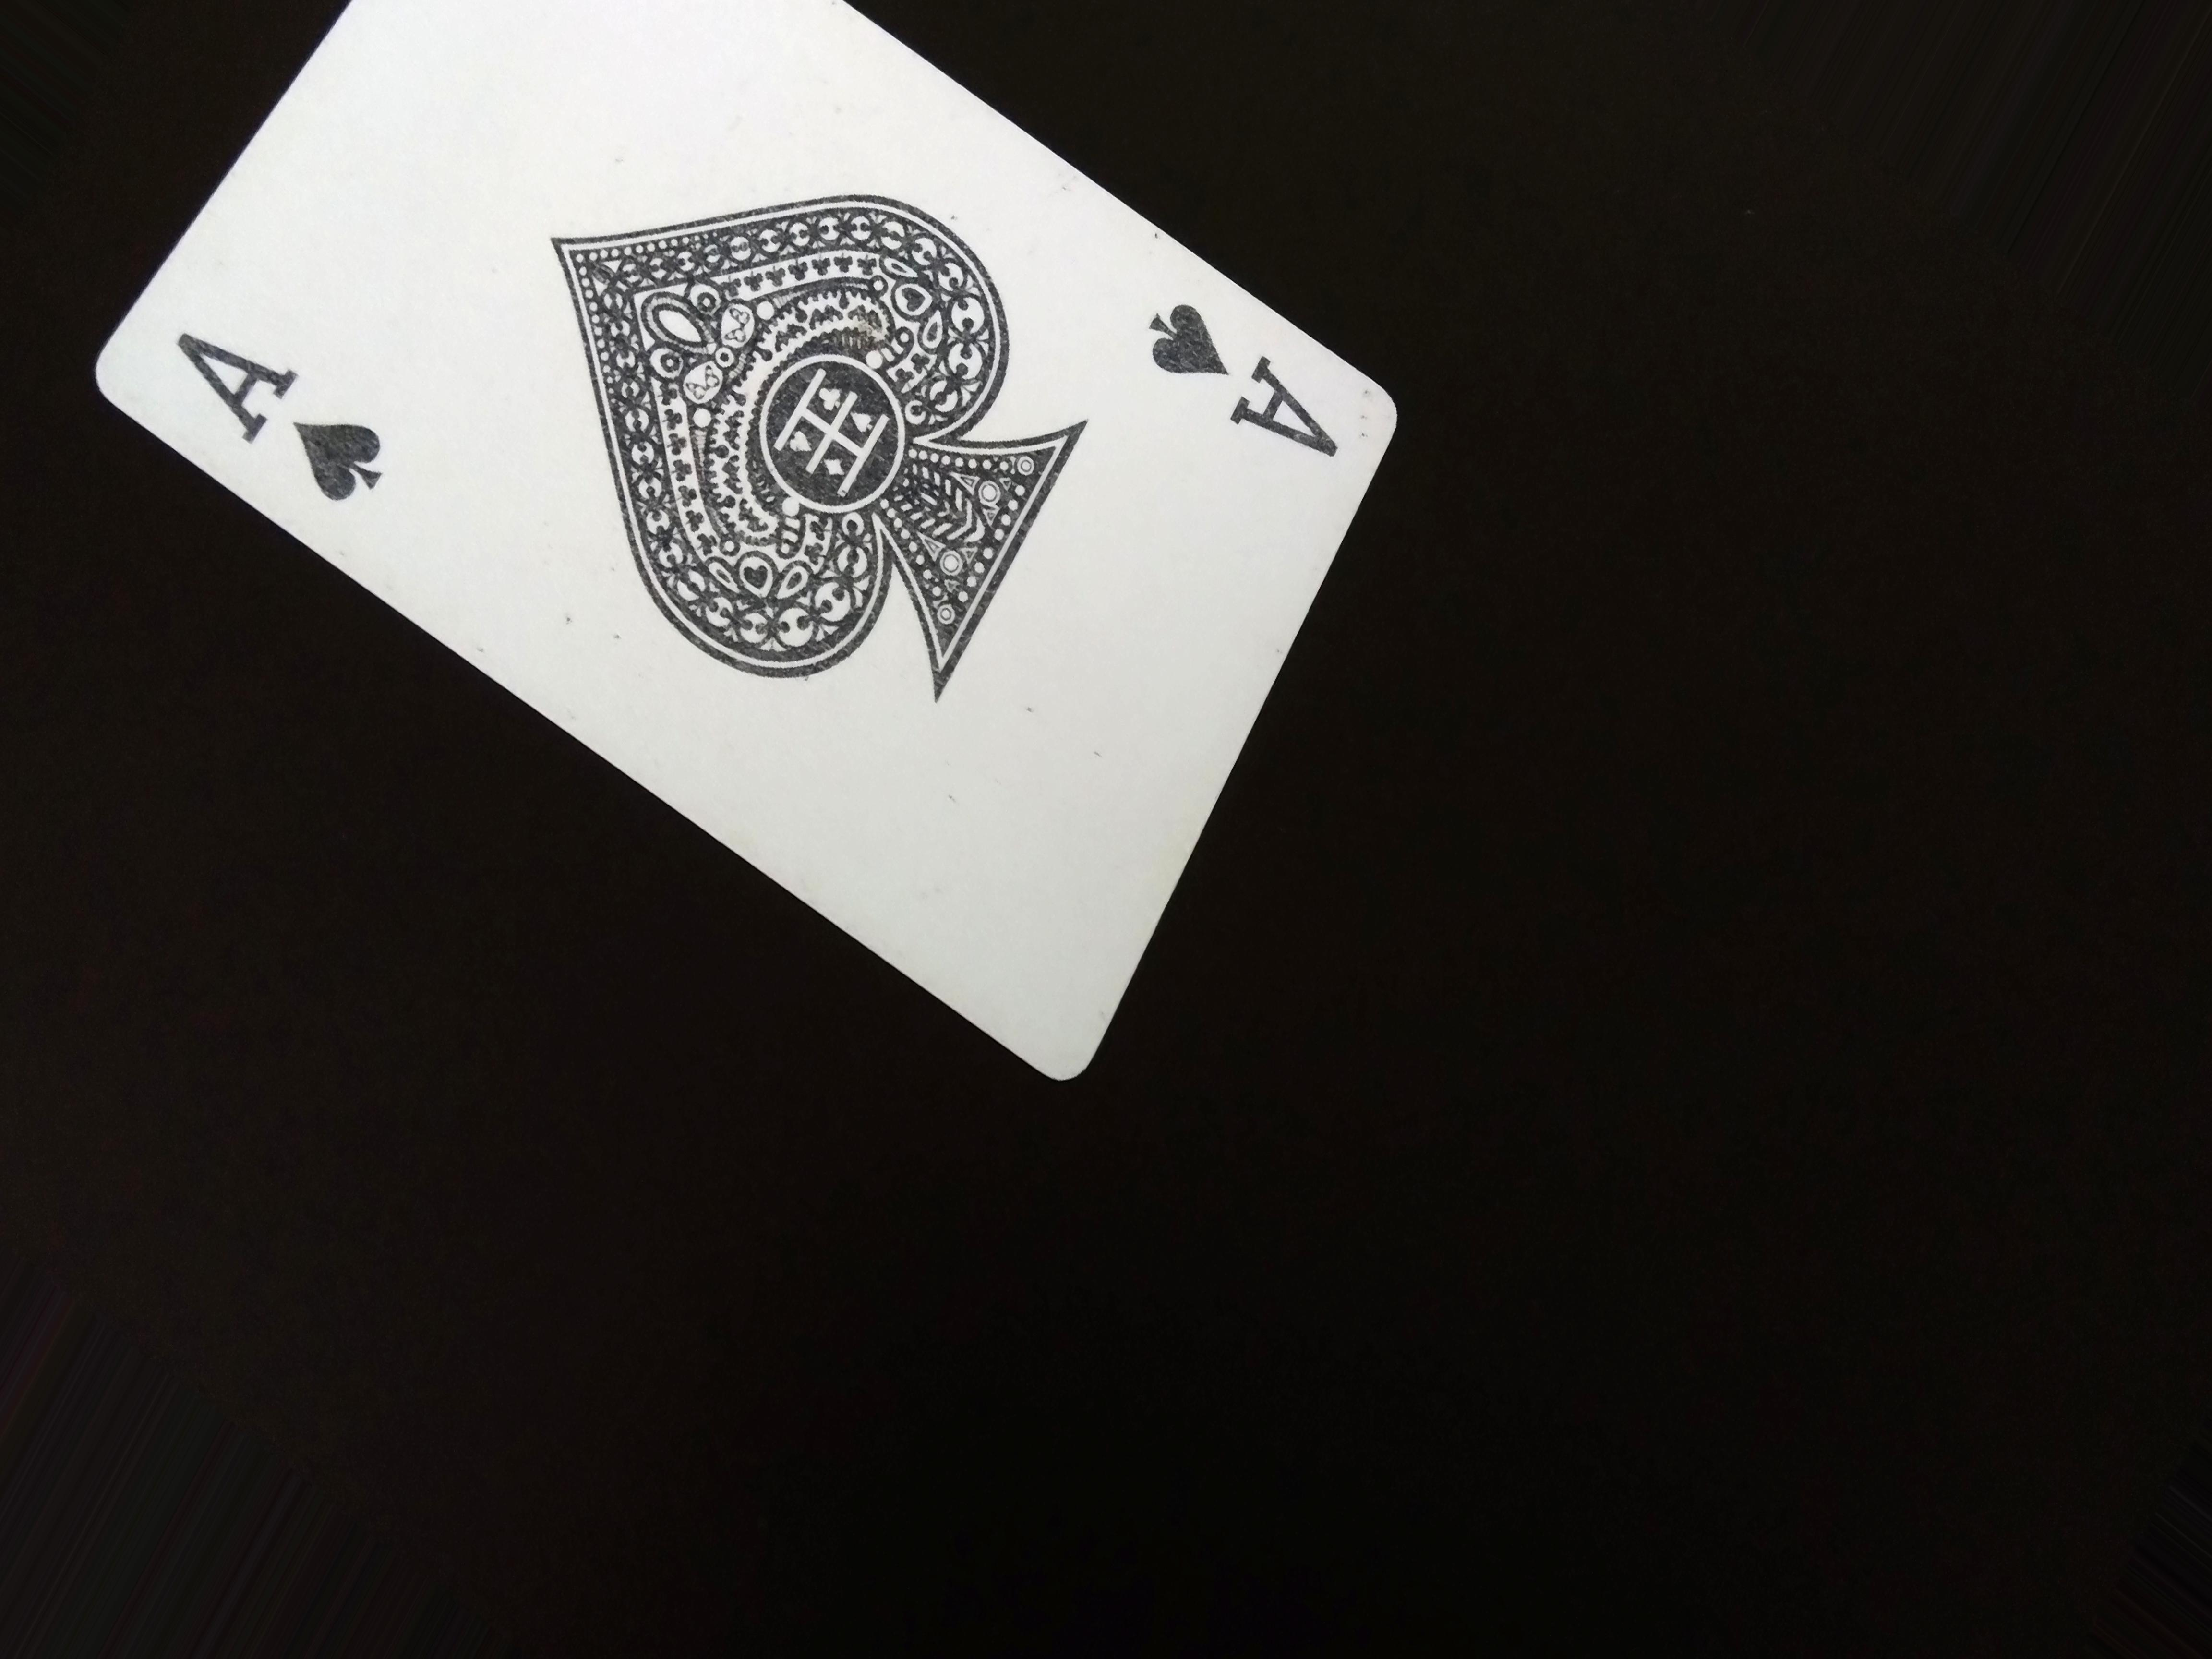AS: (160, 315, 416, 502)
